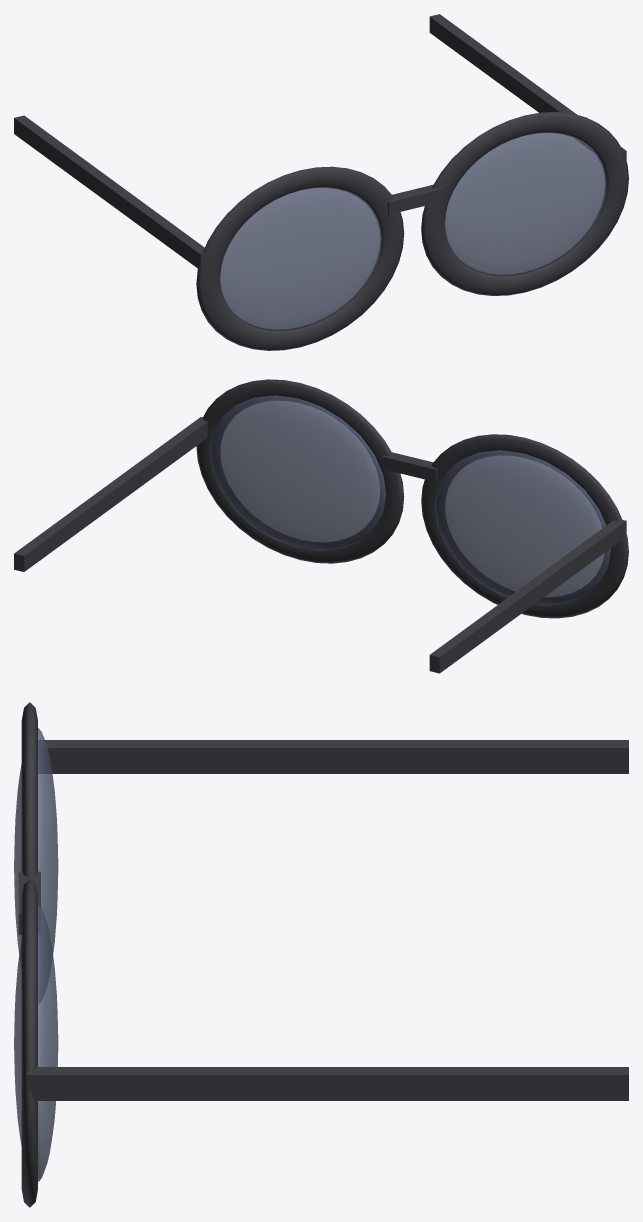
Rendered from sunglasses.glb.
3 views of the same model, one above another, from view 1: azimuth 30°, elevation 25°; view 2: azimuth 150°, elevation 25°; view 3: azimuth 270°, elevation 25° (orthographic). The views are drawn at different scales.
Size of the model in its own units: 12.7 by 4.97 by 9.7.
